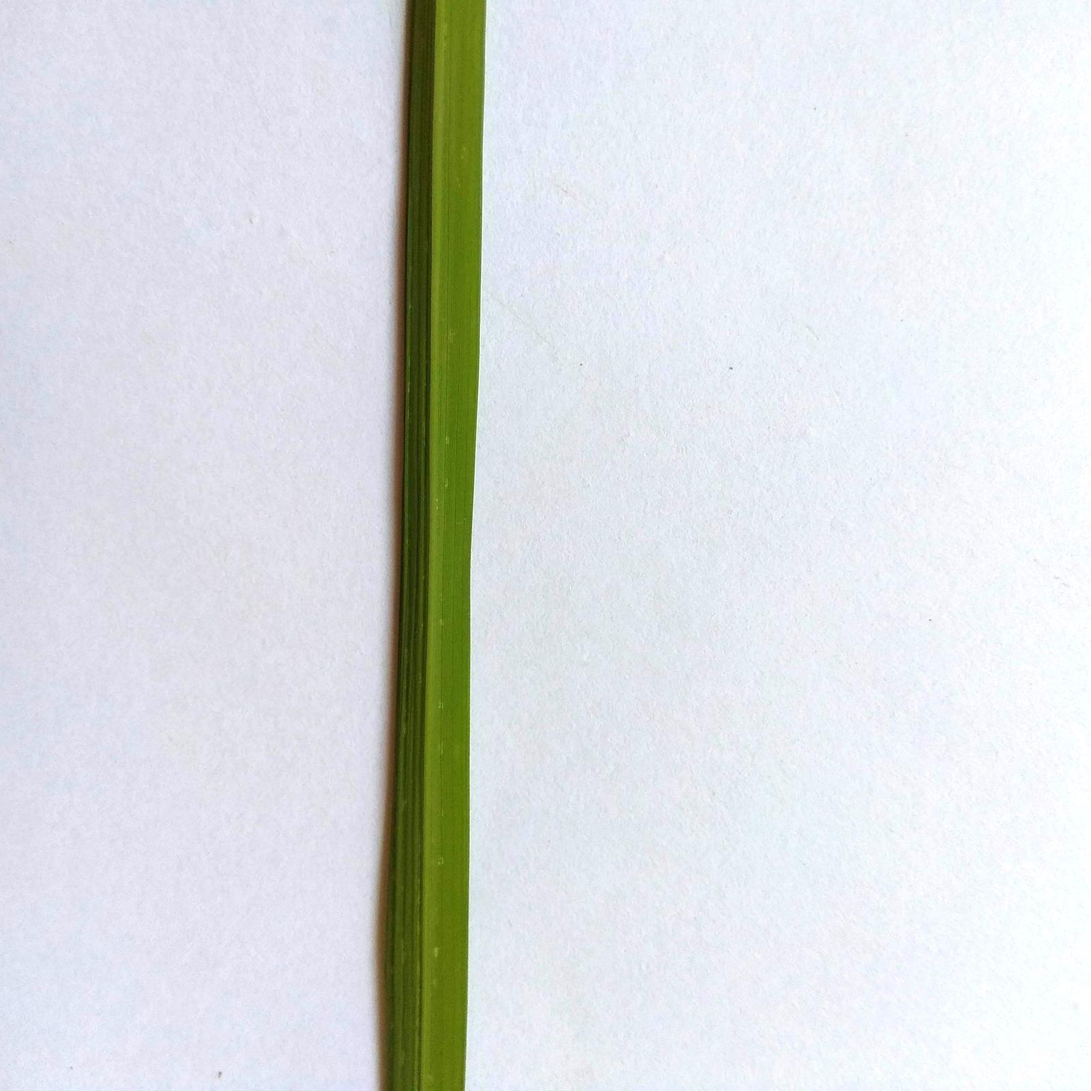Healthy: (385, 0, 484, 1090)
